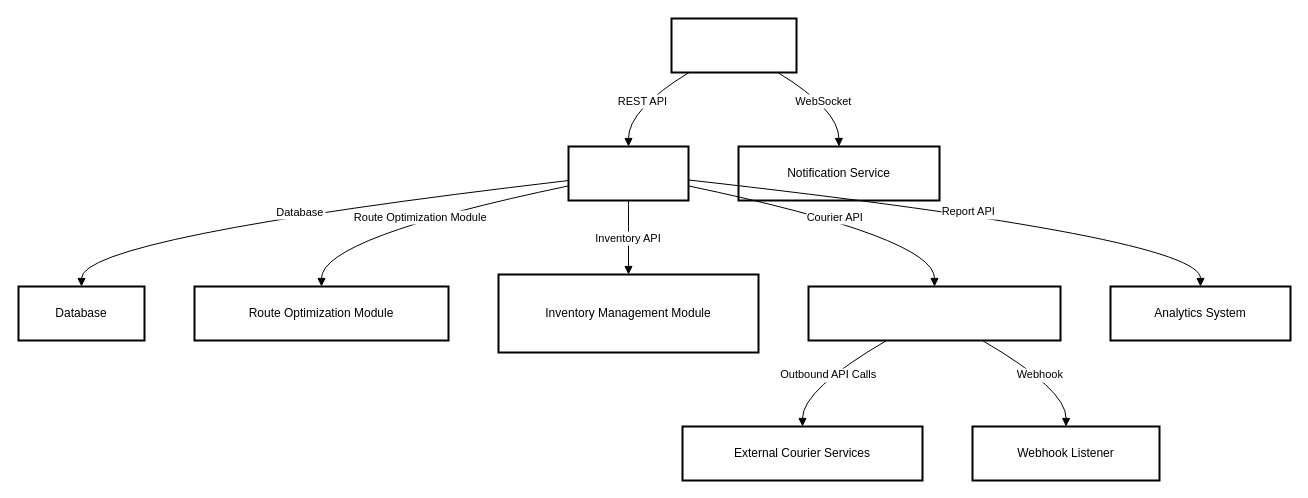
The diagram is 1308 pixels wide and 498 high, and some of its shapes have lost their labels. Here are the shapes that lost their labels. From the top down, the centre of each, then its label:
pixel 733 45: Frontend
pixel 628 173: Backend
pixel 934 313: Courier Integration Module
